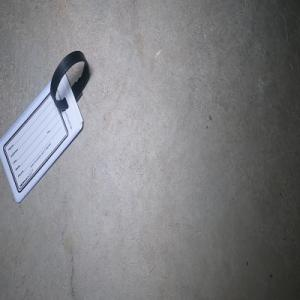LuggageTag: (0, 48, 90, 204)
